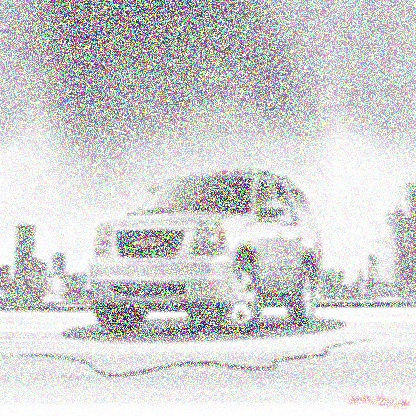Vehicle: (90, 169, 322, 330)
